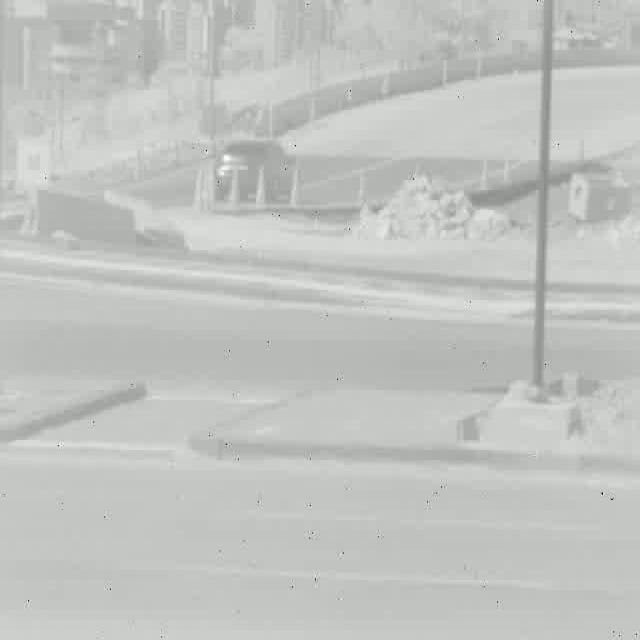Car: (216, 142, 302, 203)
